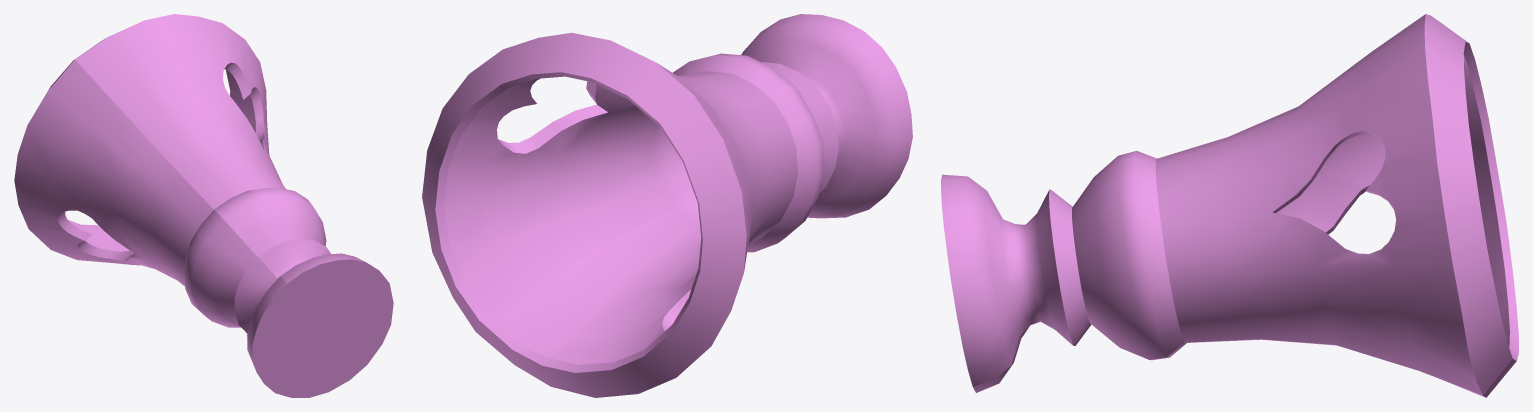
The model's file is SM_Quatrefoil_Urn_2.fbx.
The picture shows the model from 3 angles, left to right: view 1: azimuth 30°, elevation 25°; view 2: azimuth 150°, elevation 25°; view 3: azimuth 270°, elevation 25°; orthographic projection. The views are drawn at different scales.
Parts seen in each view (by area): view 1: SM_Quatrefoil_Urn_2; view 2: SM_Quatrefoil_Urn_2; view 3: SM_Quatrefoil_Urn_2.
Boxes of the visible parts, left/top/right/bottom form: SM_Quatrefoil_Urn_2: left=14, top=14, right=393, bottom=397; SM_Quatrefoil_Urn_2: left=422, top=14, right=912, bottom=397; SM_Quatrefoil_Urn_2: left=941, top=14, right=1518, bottom=397.
Bounding box in the file's own units: 0.8823 × 0.8721 × 1.3.
